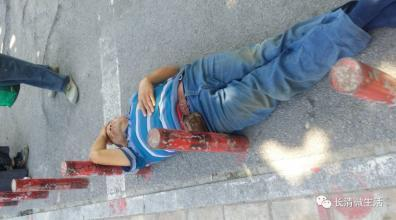Fall-Detected: (78, 0, 391, 182)
